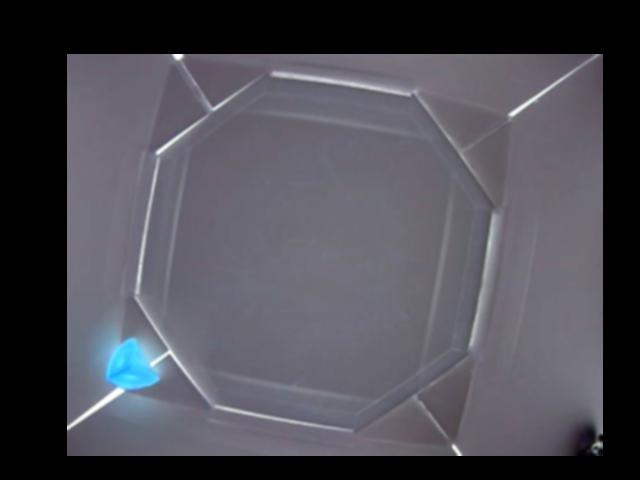Carrot: (107, 337, 160, 389)
